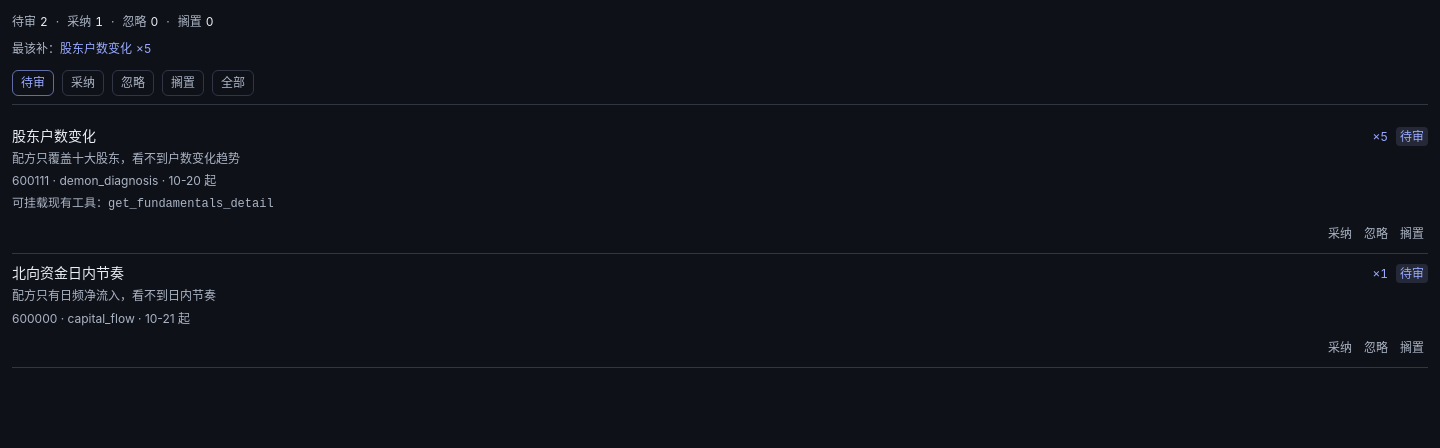
Test: ProposalPanel › 采纳成功但刷新失败：列表保留（不抹空），只补一行刷新失败提示
Expected: the number of list items with test id "proposal-row" is 2, [12,117,1428,254]; [12,254,1428,368]
Click the 1st button with test id "proposal-action-accept" at (1340, 233), box [1324,222,1356,245]
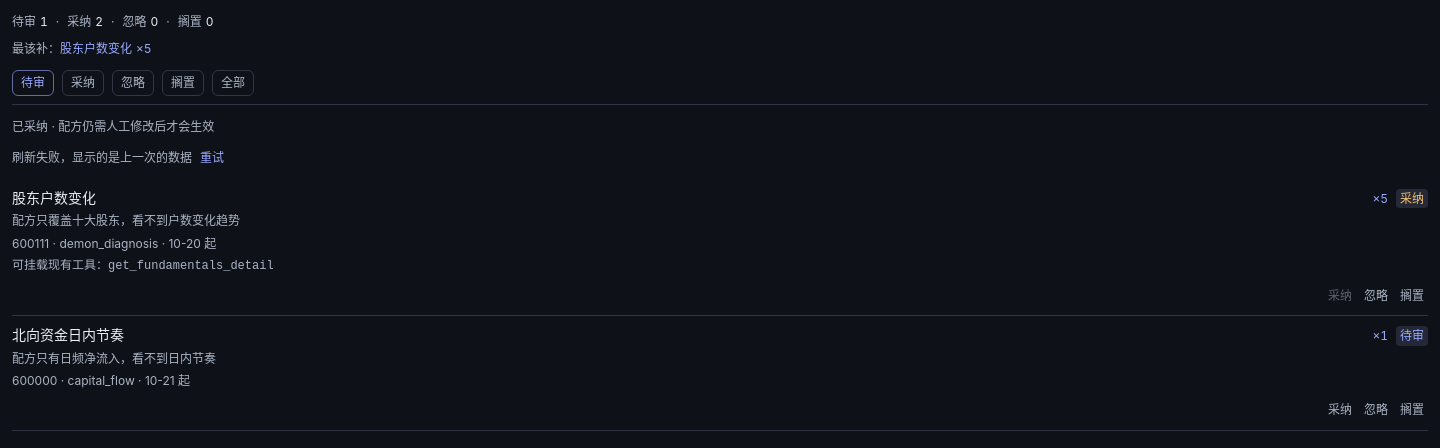
Expected: the number of list items with test id "proposal-row" is 2, [12,179,1428,316]; [12,316,1428,431]
Expected: the message with test id "proposal-accept-note" reads "已采纳 · 配方仍需人工修改后才会生效", [12,119,214,134]
Expected: the message with test id "proposal-refresh-error" shows "刷新失败", [12,150,192,165]
